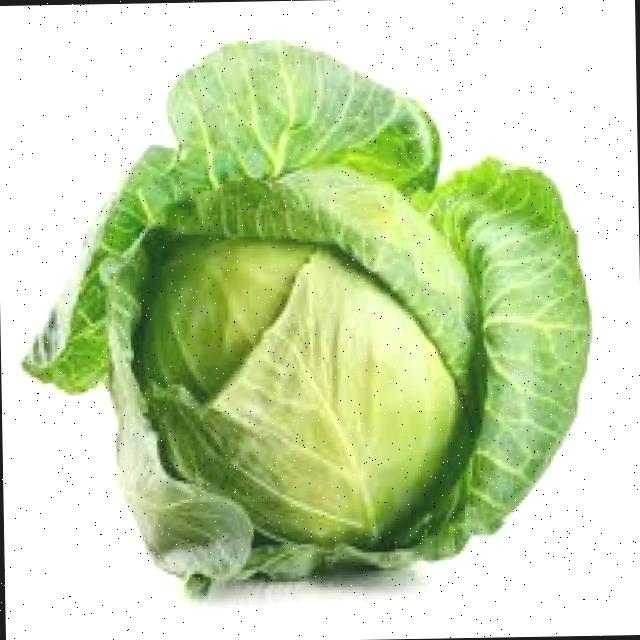cabbage: (37, 49, 600, 594)
